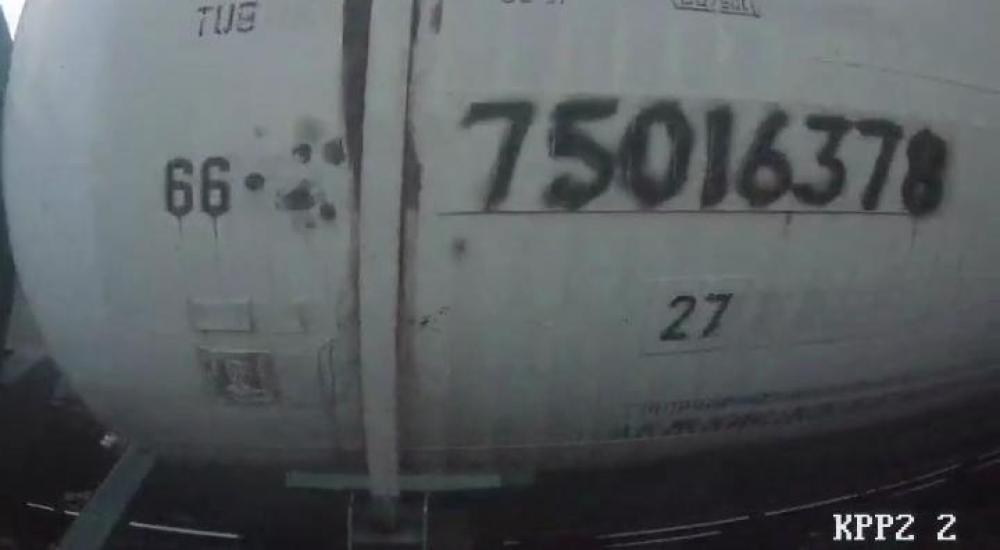Wagon-number: (454, 92, 952, 219)
